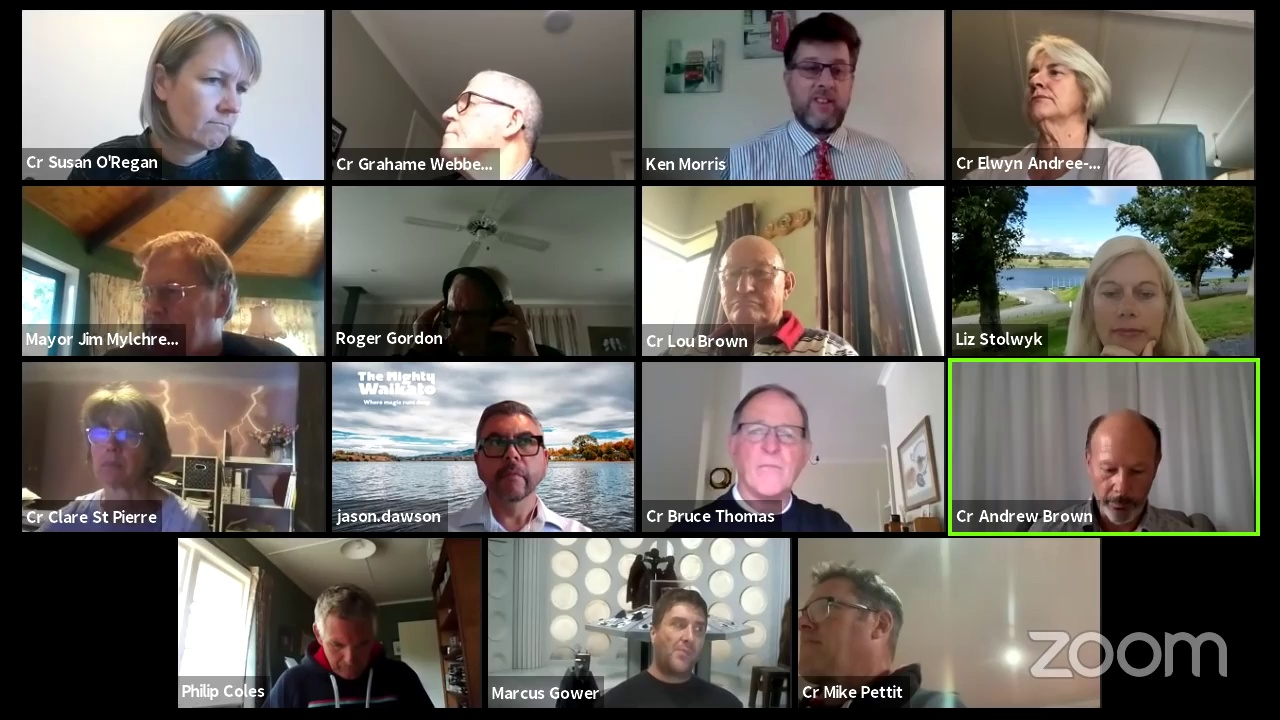Distracted: (801, 566, 916, 684), (442, 67, 536, 165), (1077, 403, 1163, 510), (135, 234, 221, 335), (430, 266, 526, 355), (1021, 38, 1107, 125), (308, 588, 379, 676)
Not Distracted: (134, 20, 253, 150), (766, 16, 871, 138), (70, 388, 177, 505), (725, 379, 821, 500), (466, 392, 558, 514), (1088, 248, 1172, 353), (711, 232, 795, 325), (640, 591, 708, 678)
